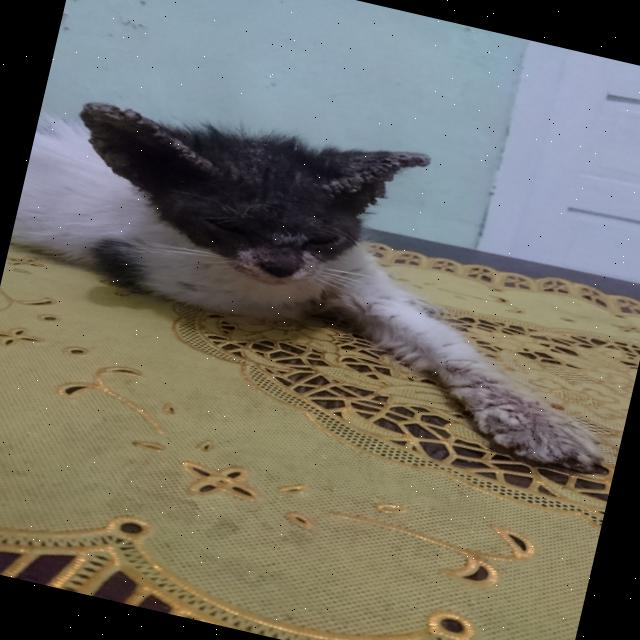cat-scabies: (410, 349, 628, 489), (278, 114, 444, 232), (60, 90, 230, 184)
